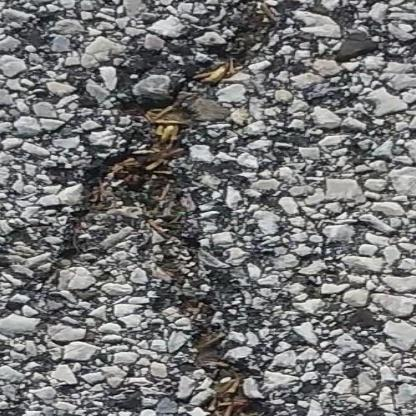Cracks: (45, 0, 375, 416)
